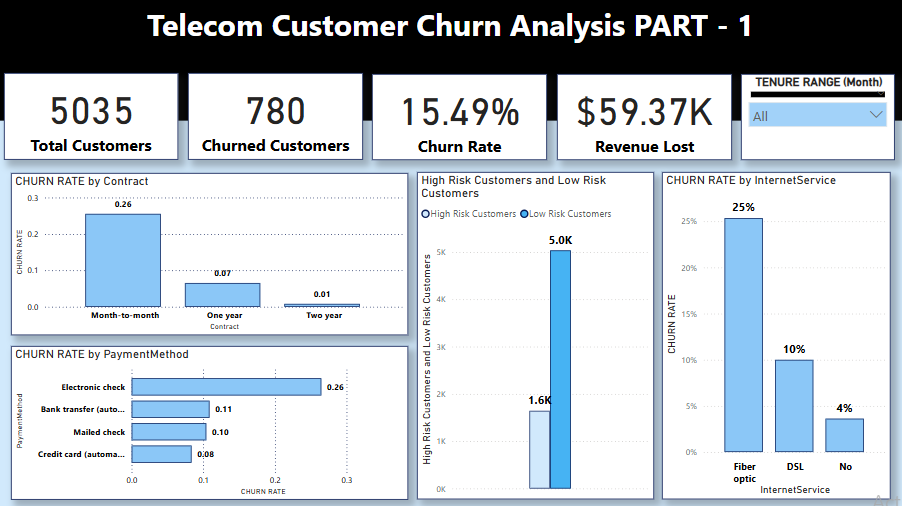

Layout of this report page (visuals, bound fields, positions):
{"tool":"powerbi","page":{"name":"PART 1","canvas":[1280,720],"ordinal":0},"visuals":[{"type":"textbox","box":[0,0,1280.2,171.4],"z":0},{"type":"card","title":"Total Customers","fields":{"Values":["telco_churn.Total Customers"]},"box":[7.7,103.5,246.6,123.3],"z":1000},{"type":"card","title":"Total Customers","fields":{"Values":["telco_churn.CHURNED CUSTOMERS"]},"box":[267.8,103.5,248,123.3],"z":2000},{"type":"card","title":"Total Customers","fields":{"Values":["telco_churn.CHURN RATE"]},"box":[529.3,104.9,248,121.9],"z":3000},{"type":"columnChart","fields":{"Category":["telco_churn.Contract"],"Y":["telco_churn.CHURN RATE"]},"box":[16.7,244.6,562.7,229.6],"z":4000},{"type":"clusteredBarChart","fields":{"Y":["telco_churn.CHURN RATE"],"Category":["telco_churn.PaymentMethod"]},"box":[16.7,489.8,562.7,218.3],"z":5000},{"type":"card","title":"Total Customers","fields":{"Values":["telco_churn.REVENUE LOST"]},"box":[790.8,104.9,248,121.9],"z":6000},{"type":"clusteredColumnChart","fields":{"Y":["telco_churn.High Risk Customers","telco_churn.Total Customers"]},"box":[592,243.4,335.7,464],"z":7000},{"type":"clusteredColumnChart","fields":{"Category":["telco_churn.InternetService"],"Y":["telco_churn.CHURN RATE"]},"box":[939.6,243.4,323.7,464],"z":8000},{"type":"slicer","title":"TENURE RANGE (Month)","fields":{"Values":["telco_churn.Tenure Range"]},"box":[1052.3,104.9,218.3,121.9],"z":8001}]}

Visuals, with their boxes in screenshot pixels (x1, y1, x2, y2), scaled from the page's 1280x720 canvas onto the 902x506 screenshot:
textbox: bbox(0, 0, 901, 120)
"Total Customers" card: bbox(5, 73, 179, 159)
"Total Customers" card: bbox(189, 73, 363, 159)
"Total Customers" card: bbox(373, 74, 548, 159)
columnChart - telco_churn.Contract x telco_churn.CHURN RATE: bbox(12, 172, 408, 333)
clusteredBarChart - telco_churn.CHURN RATE x telco_churn.PaymentMethod: bbox(12, 344, 408, 498)
"Total Customers" card: bbox(557, 74, 732, 159)
clusteredColumnChart - telco_churn.High Risk Customers x telco_churn.Total Customers: bbox(417, 171, 654, 497)
clusteredColumnChart - telco_churn.InternetService x telco_churn.CHURN RATE: bbox(662, 171, 890, 497)
"TENURE RANGE (Month)" slicer: bbox(742, 74, 895, 159)
